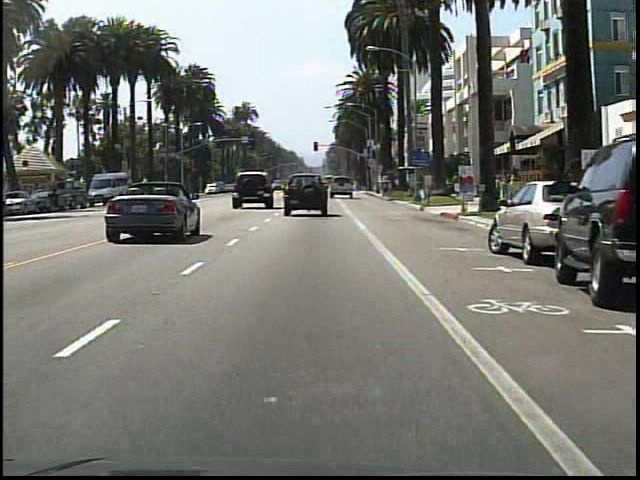person: (49, 178, 65, 215)
